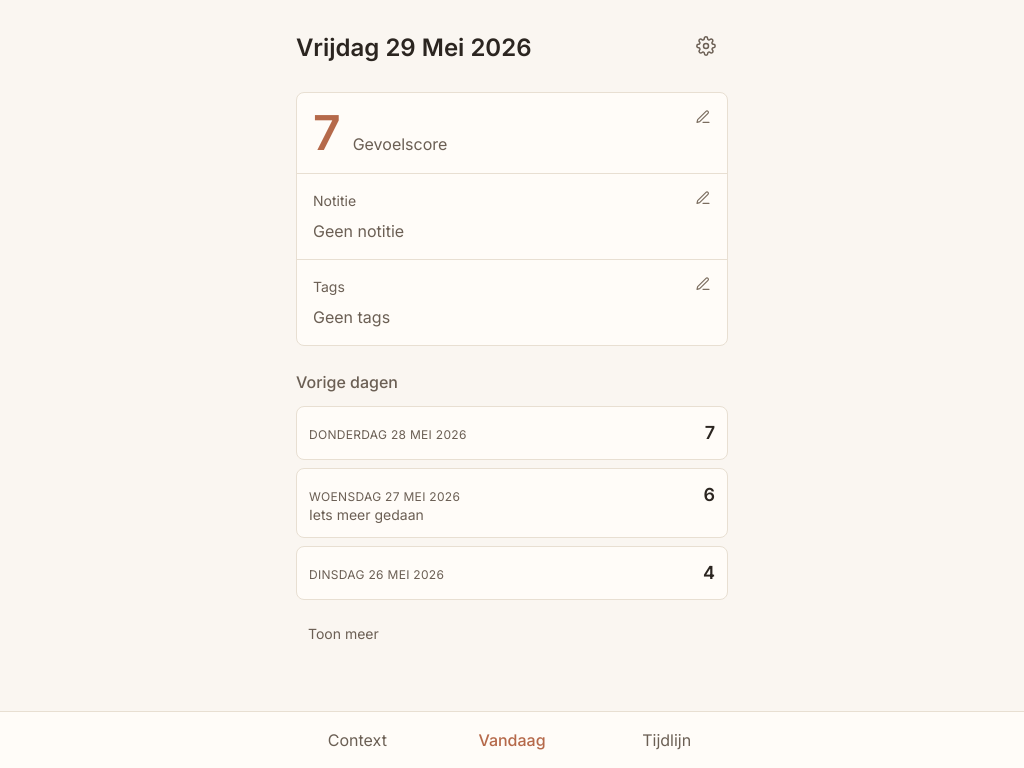
Test: <TodayShell /> › Context tab › given the Context tab is tapped, the today-card is replaced by the ContextView
The width and height of the screenshot is (1024, 768).
Click the tab "Context" at (357, 740), box [280,712,435,767]
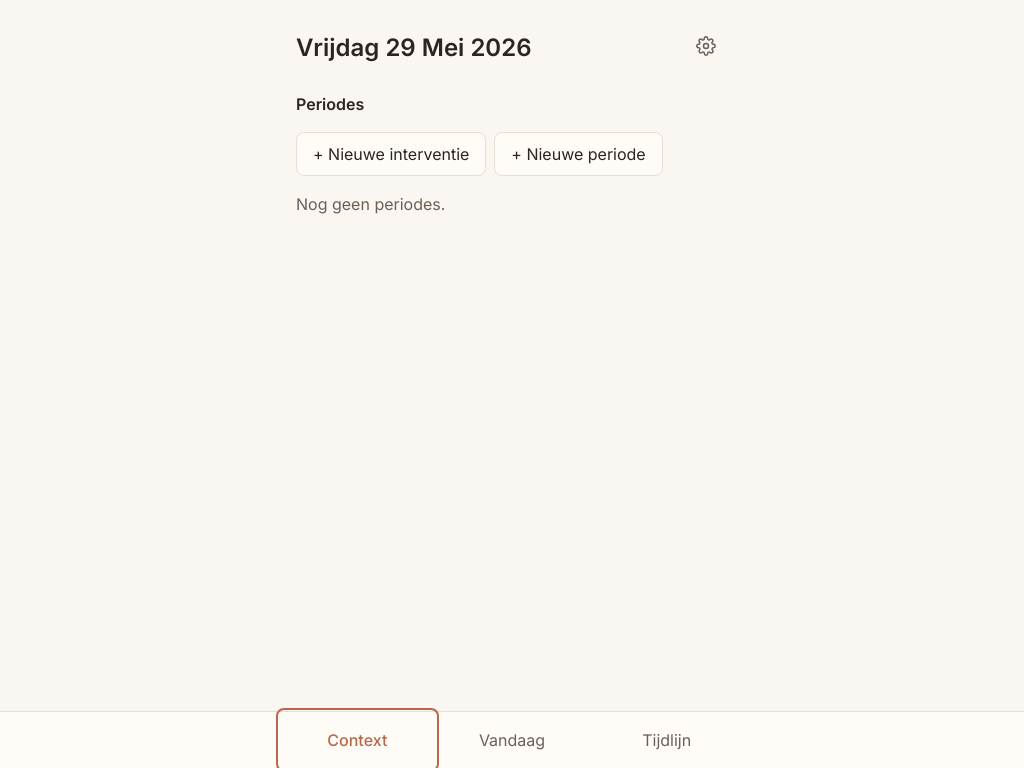
Now the element with test id "today-card" is gone
Now the element named "Context" is shown, box [296,94,663,214]
